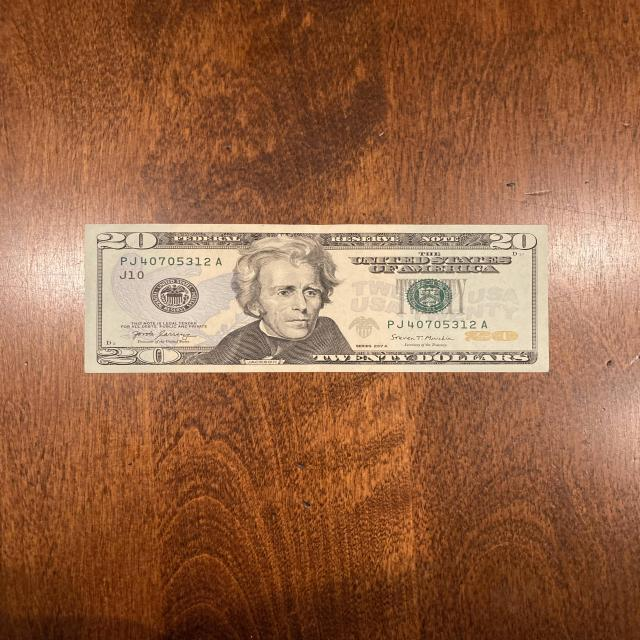twenty: (83, 224, 550, 374)
